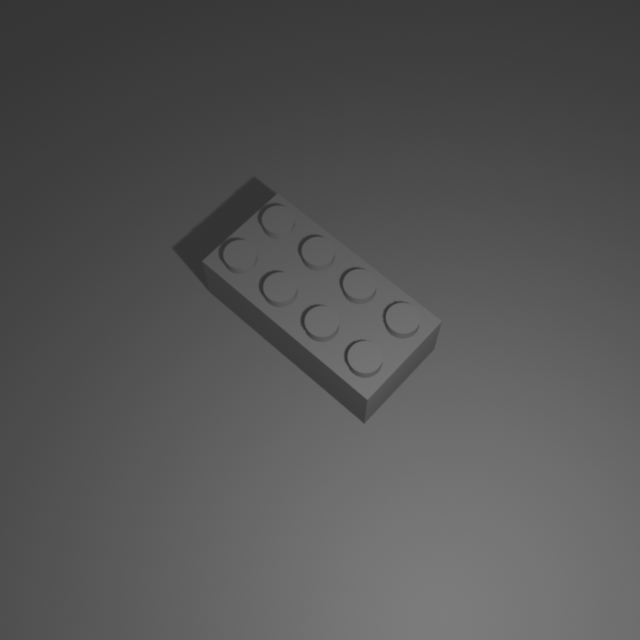lego_2x4: (201, 187, 443, 424)
